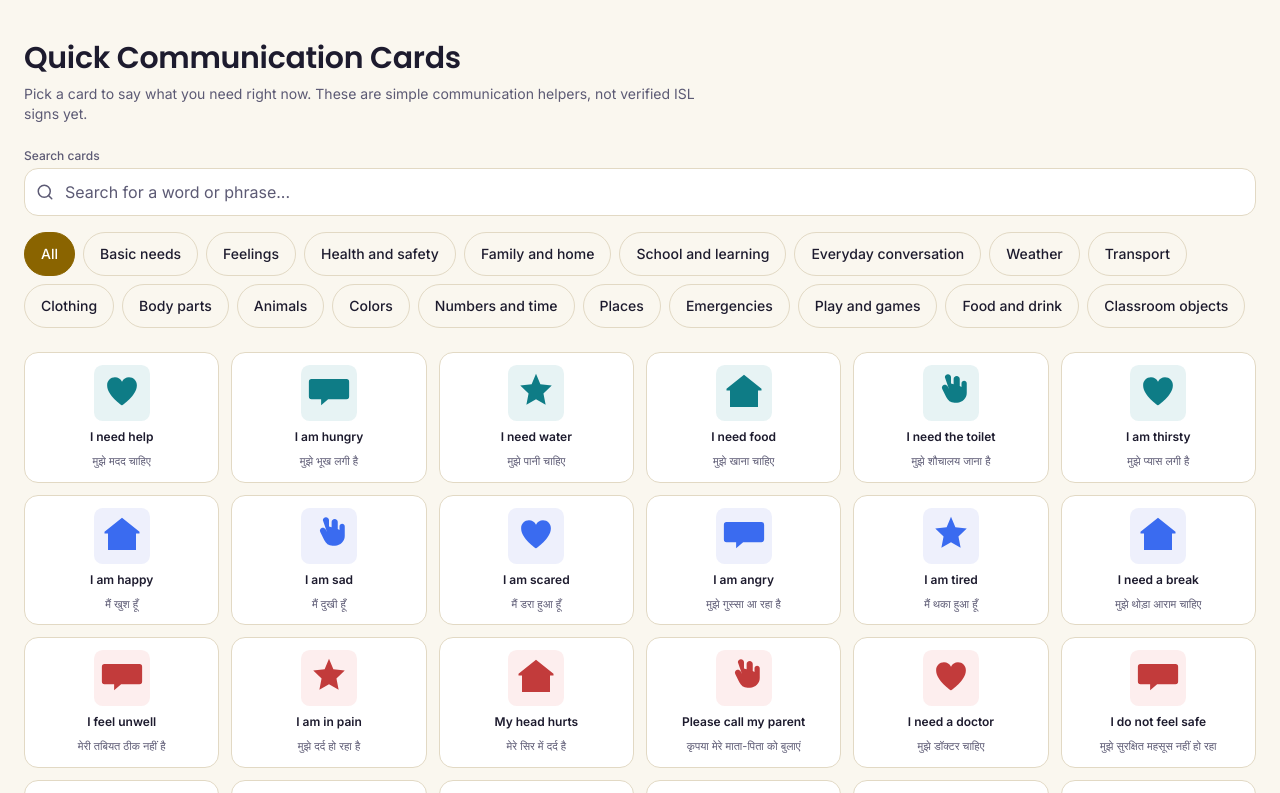
Scenario: CardsClient › filters cards by search text
Type "thank you" into the field labelled "Search cards" at (640, 192), box [24,168,1256,216]
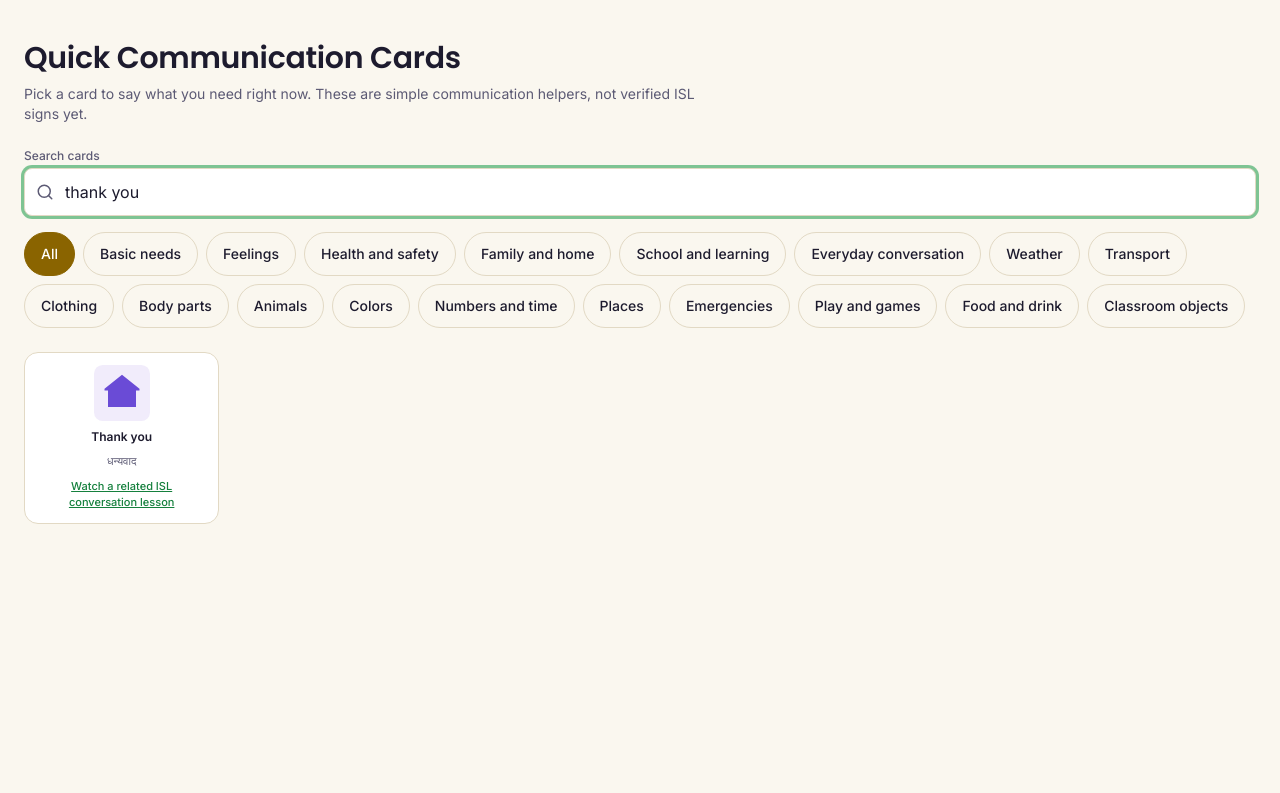
Expected: the text "Thank you" is shown, [91,429,152,445]
Now the button "I am hungry" is gone
